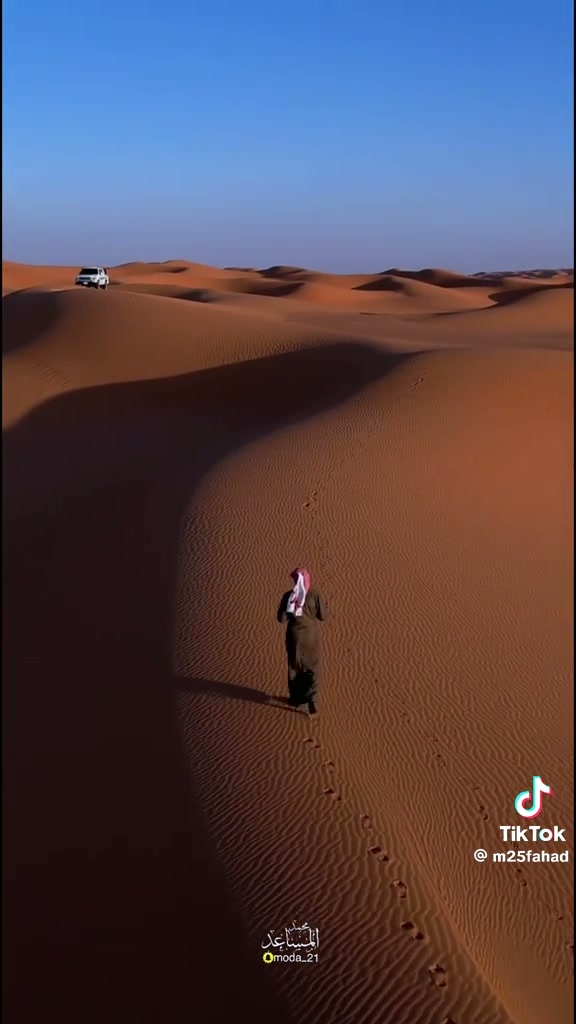human_footprint: (277, 568, 324, 714), (390, 903, 431, 945), (362, 845, 406, 872), (428, 958, 448, 997), (320, 773, 347, 799), (302, 733, 334, 754)
